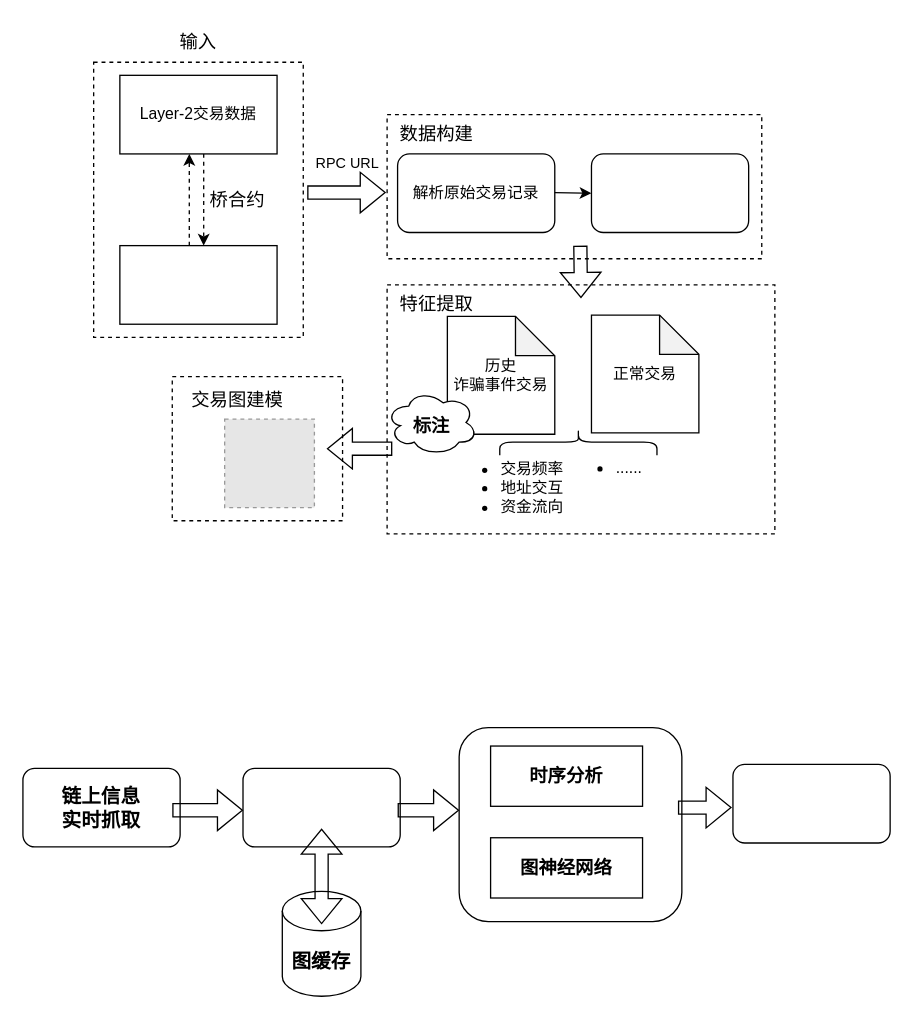
This 913x1019 diagram has some shape labels left out. Grey dashed boxes stand in for pictures. The shapes that lost their labels are listed below. From the top down, each one's box as (x1, y1, x2, y2) in pixels, then its label:
(590, 153, 749, 233): 构建L1/L2映射 1) 批量交易 2) 跨层资金
(119, 244, 277, 324): Layer-1交易数据
(242, 767, 400, 847): 交易图构建
(732, 763, 890, 843): 诈骗预警
